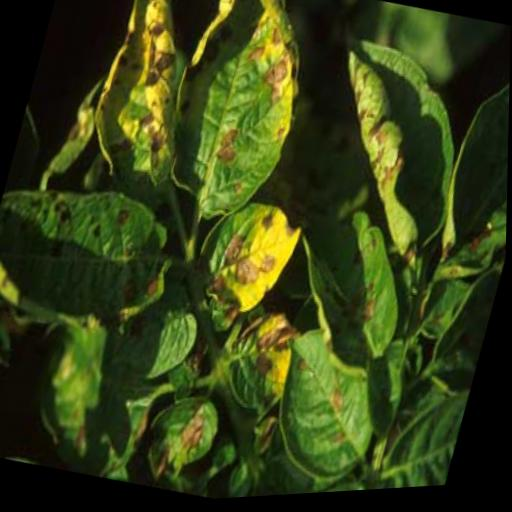Early Blight: (287, 31, 491, 290), (153, 0, 325, 239), (263, 191, 434, 388), (64, 0, 226, 207), (252, 314, 409, 500), (183, 191, 311, 333), (213, 309, 309, 427), (137, 384, 227, 486)
